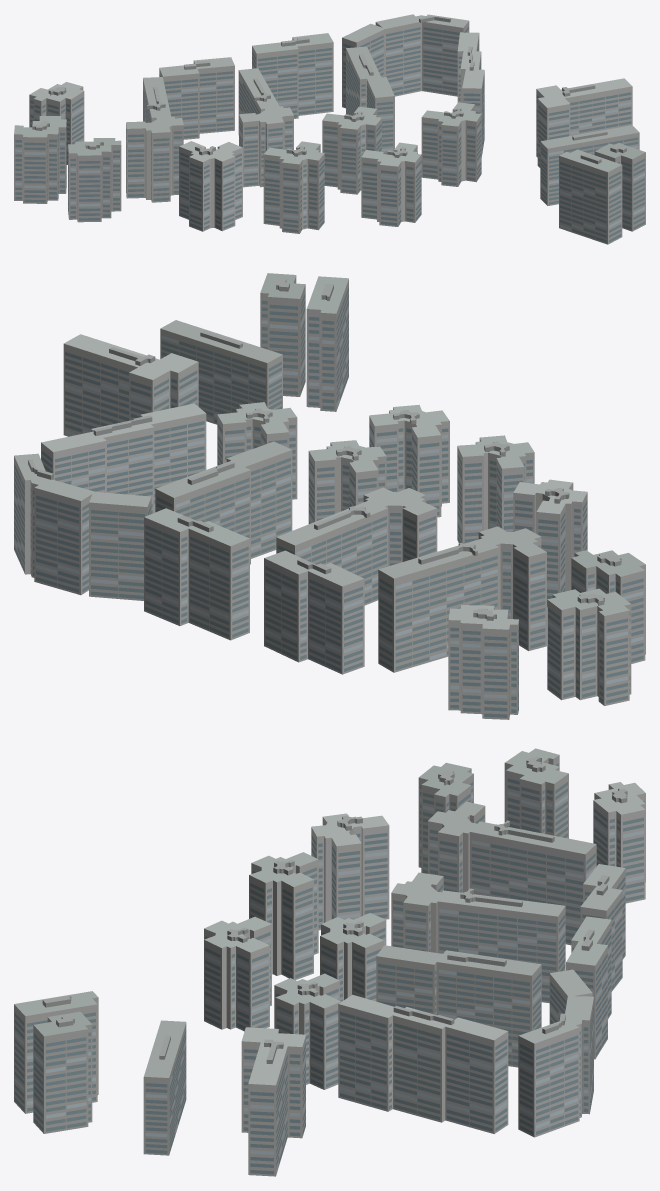
Rendered from apt-a15728008.glb.
3 views of the same model, one above another, from view 1: azimuth 30°, elevation 25°; view 2: azimuth 150°, elevation 25°; view 3: azimuth 270°, elevation 25° (orthographic). The views are drawn at different scales.
Visible parts, largest first — view 1: apt-a15728008; view 2: apt-a15728008; view 3: apt-a15728008.
Boxes of the visible parts, x1,y1,x2,y2 form: apt-a15728008: (14,14,645,244); apt-a15728008: (14,273,645,719); apt-a15728008: (14,748,645,1176).
Size of the model in its own units: 340 by 47.81 by 268.
